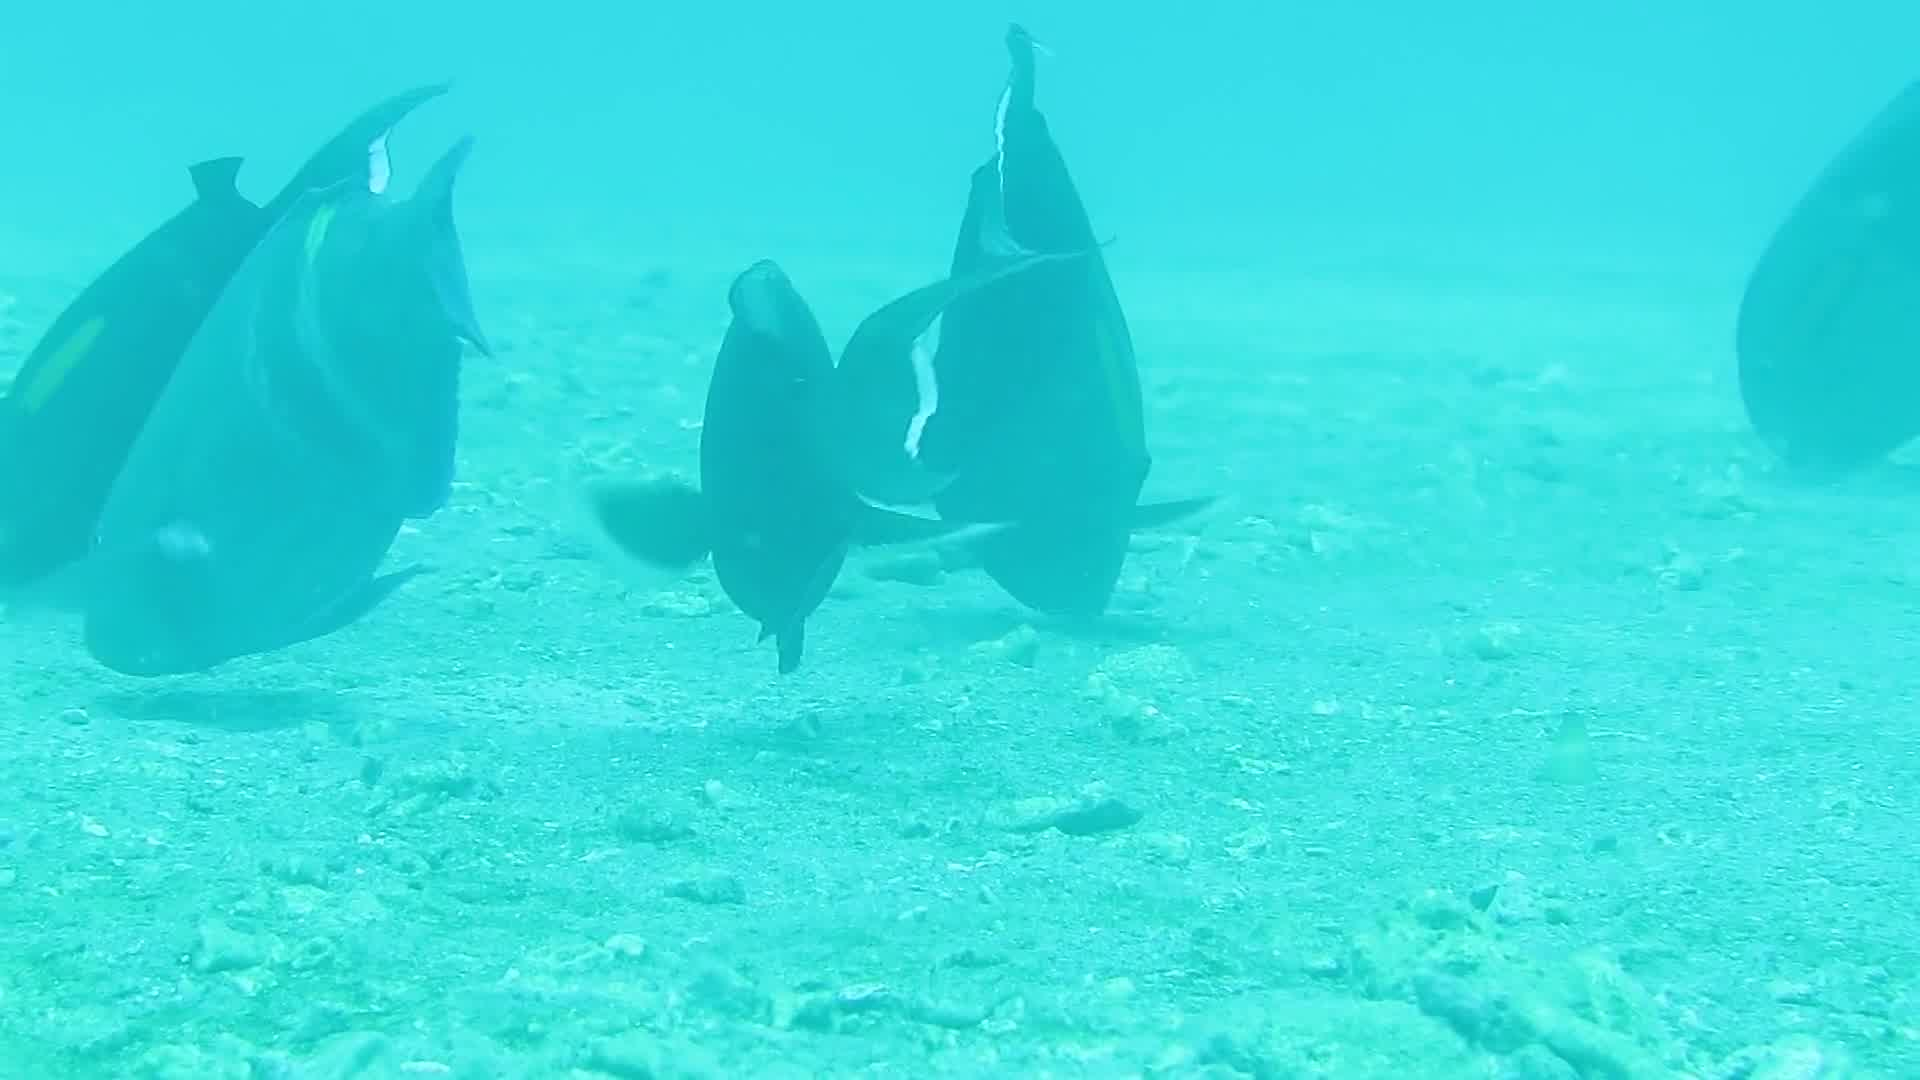Acanthurus olivaceus: (889, 1, 1222, 649), (100, 214, 510, 678), (673, 239, 878, 737), (1717, 40, 1920, 502)
